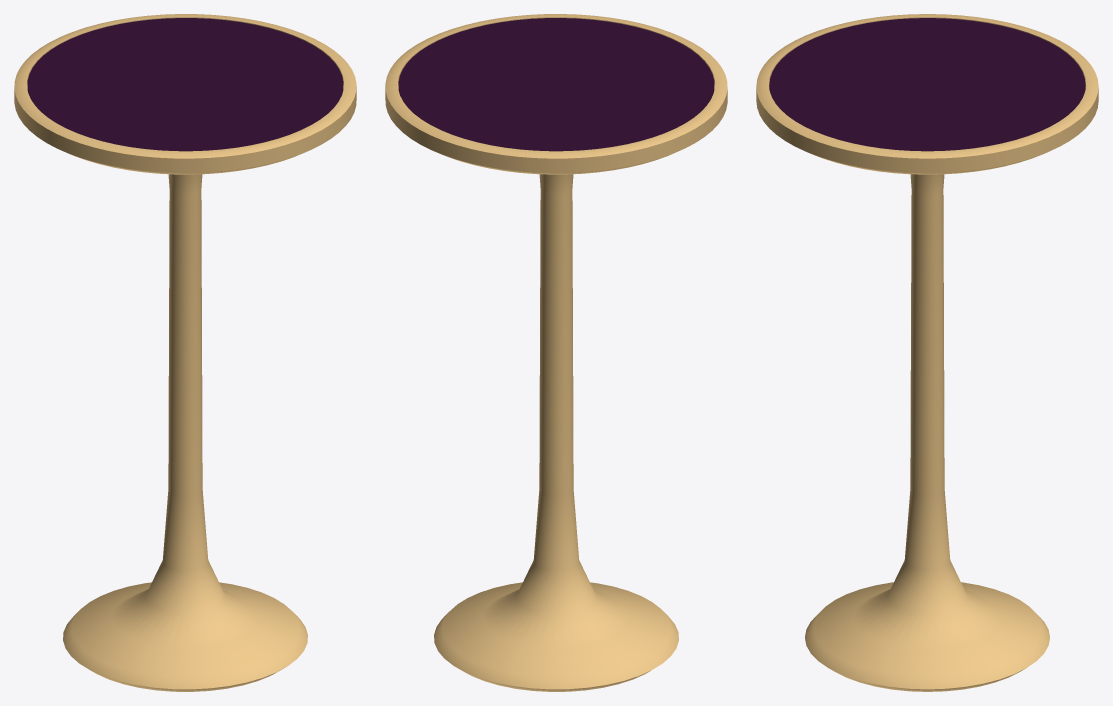
Rendered from KIT_Mesa_Alta.glb.
3 renders of one model, left to right at view 1: azimuth 30°, elevation 25°; view 2: azimuth 150°, elevation 25°; view 3: azimuth 270°, elevation 25°, orthographic.
Visible parts, largest first — view 1: KIT_Mesa_Alta; view 2: KIT_Mesa_Alta; view 3: KIT_Mesa_Alta.
Part boxes in pixels (box(x1,y1,x2,y2)): KIT_Mesa_Alta: box(14, 14, 356, 691); KIT_Mesa_Alta: box(385, 14, 727, 691); KIT_Mesa_Alta: box(756, 14, 1098, 691).
Size of the model in its own units: 0.6 by 1.08 by 0.6.
